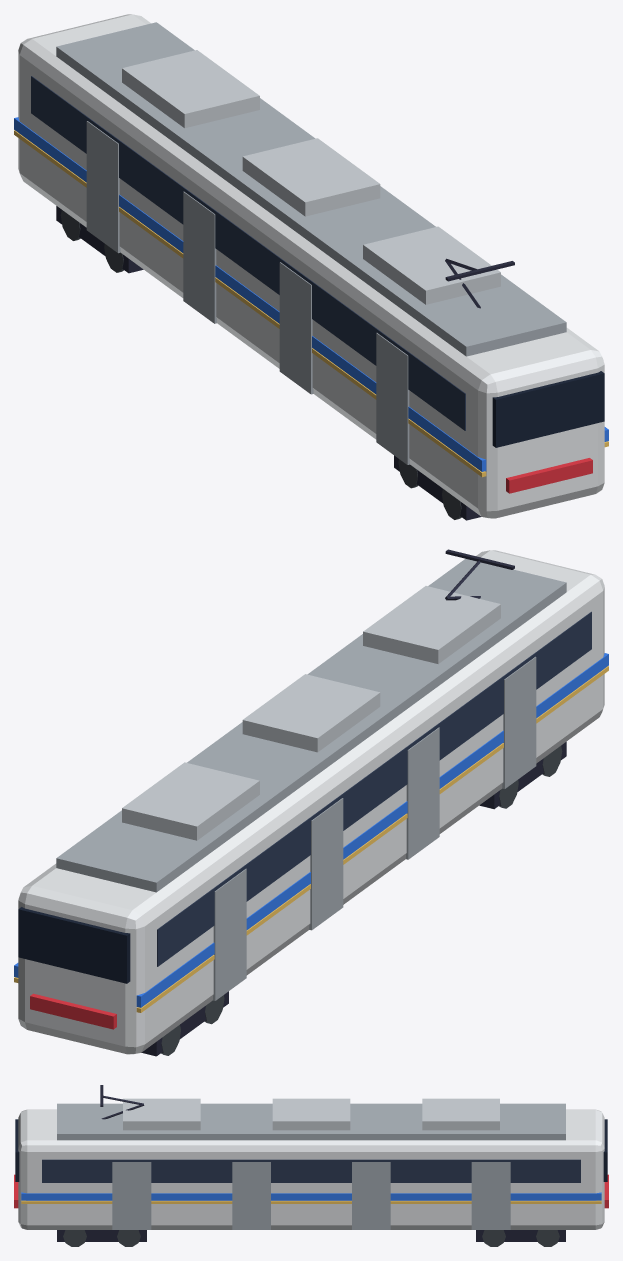
The model's file is sn_train_car.glb.
3 renders of one model, top to bottom at view 1: azimuth 30°, elevation 25°; view 2: azimuth 150°, elevation 25°; view 3: azimuth 270°, elevation 25°, orthographic. The views are drawn at different scales.
Parts seen in each view (by area): view 1: sn_train_car; view 2: sn_train_car; view 3: sn_train_car.
Boxes of the visible parts, left/top/right/bottom form: sn_train_car: left=14, top=14, right=608, bottom=520; sn_train_car: left=14, top=549, right=608, bottom=1056; sn_train_car: left=14, top=1085, right=608, bottom=1246.
Size of the model in its own units: 308 by 503 by 1988.
